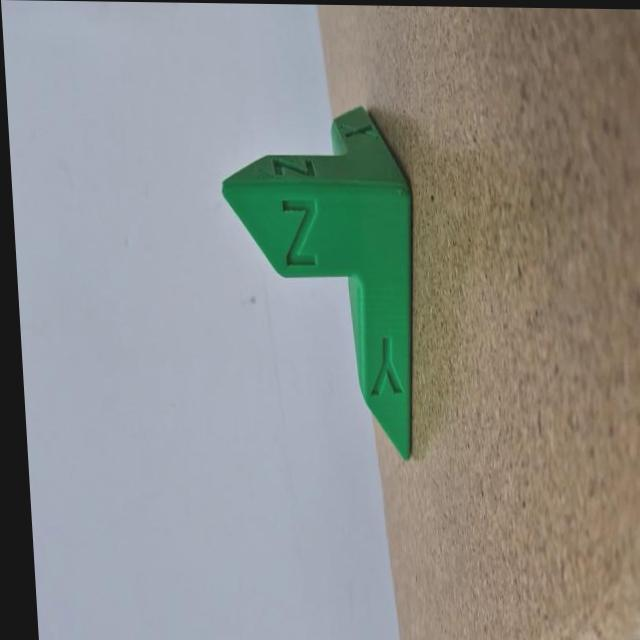eje: (209, 98, 430, 471)
